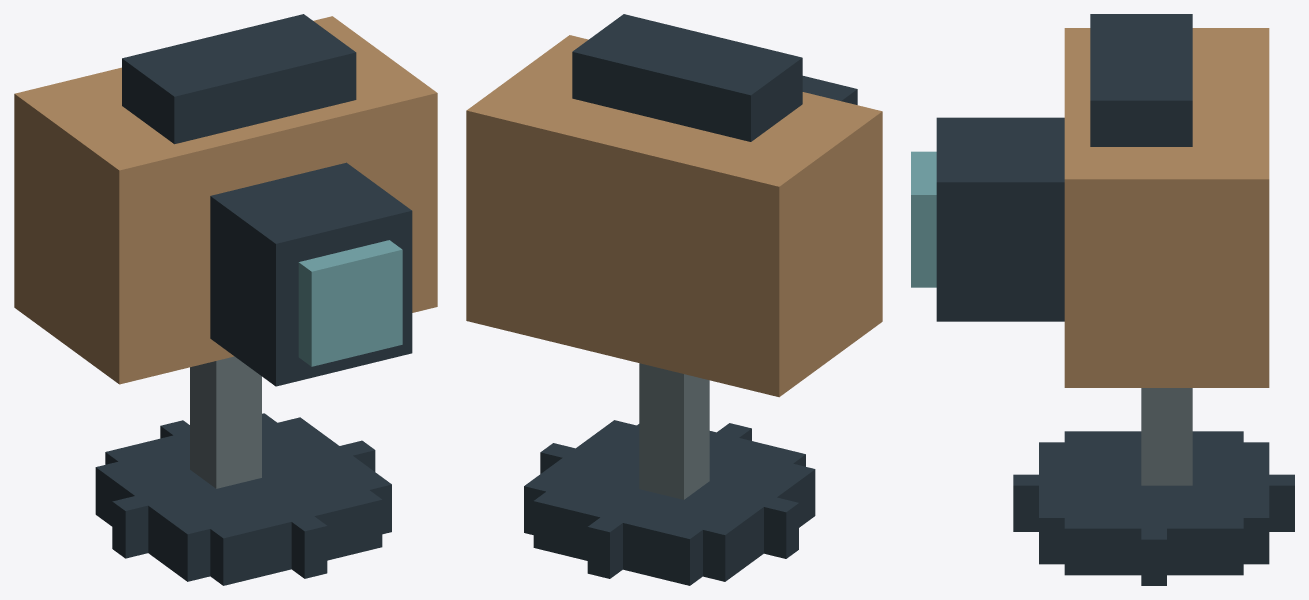
Rendered from marketing-07.glb.
3 views of the same model, side by side, from view 1: azimuth 30°, elevation 25°; view 2: azimuth 150°, elevation 25°; view 3: azimuth 270°, elevation 25° (orthographic). The views are drawn at different scales.
Parts seen in each view (by area): view 1: Studio camera; view 2: Studio camera; view 3: Studio camera.
Part boxes in pixels (box(x1,y1,x2,y2)): Studio camera: box(14, 14, 437, 585); Studio camera: box(466, 14, 882, 585); Studio camera: box(911, 14, 1294, 585).
Bounding box in the file's own units: 1.12 × 1.6 × 1.2.
